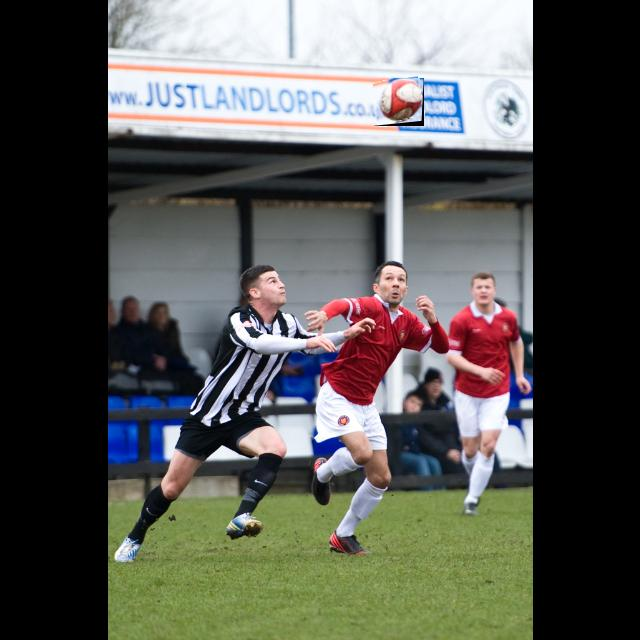Football: (374, 78, 424, 126)
